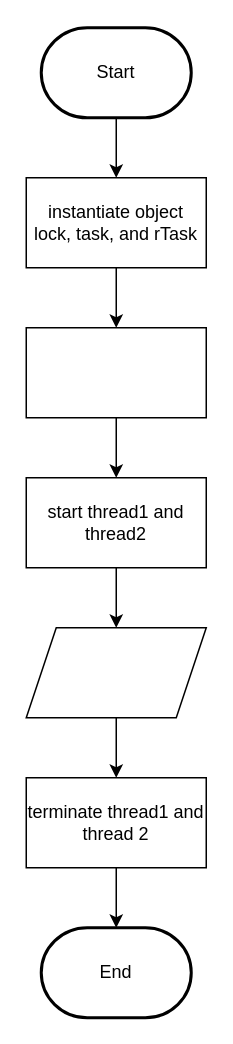
This 233x1044 diagram has some shape labels left out. The shapes that lost their labels are listed below. From the top down, each one's box as (x1, y1, x2, y2) in pixels, then its label:
(25, 326, 206, 418): instantiate thread1 and thread2 with task and rTask
(25, 626, 206, 718): display messages
